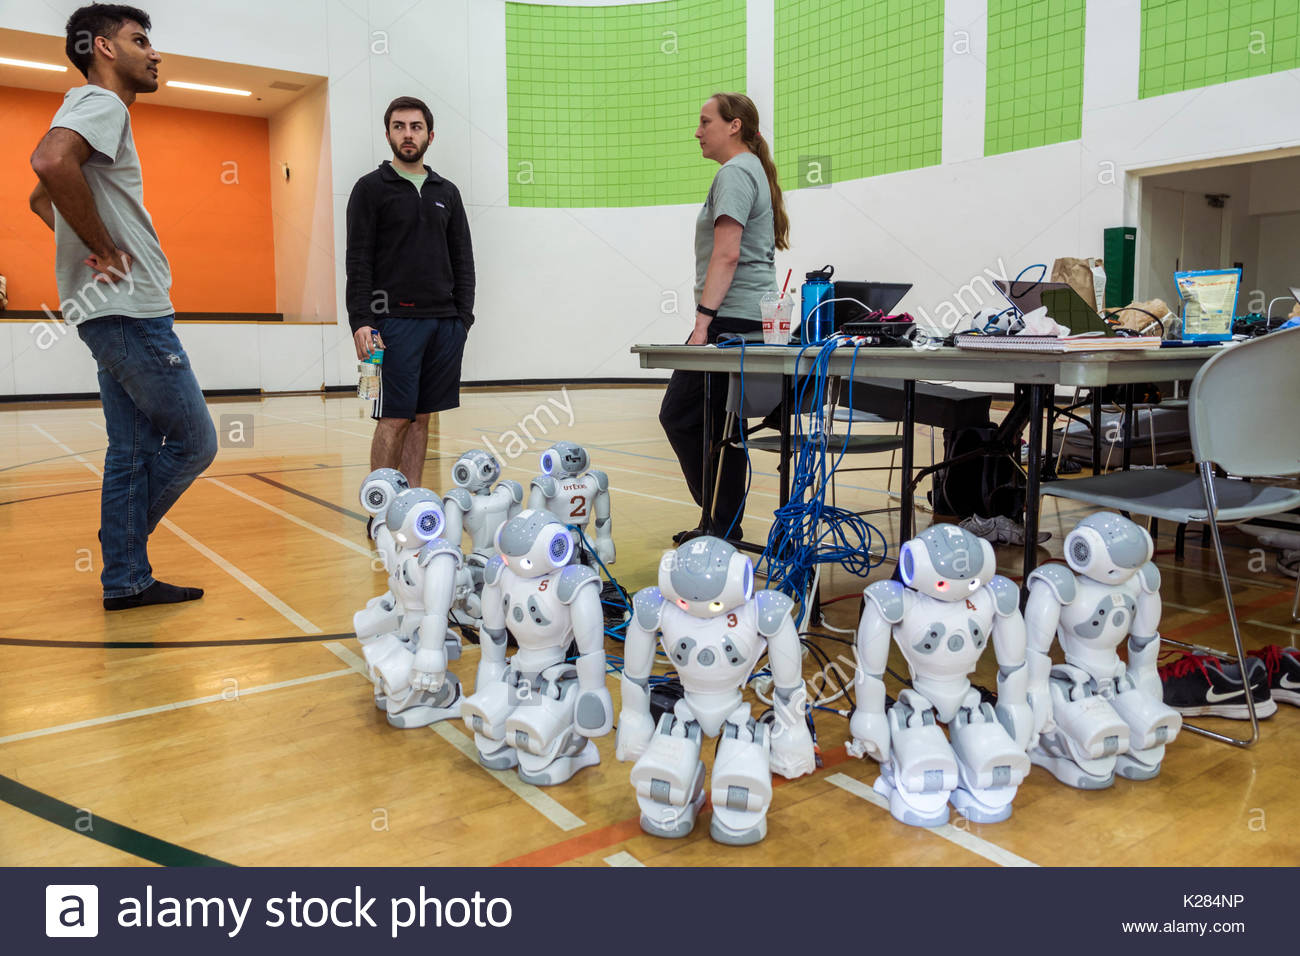nao: (832, 476, 1035, 841), (604, 521, 824, 833), (1022, 475, 1194, 802), (474, 490, 619, 802), (356, 483, 485, 732), (415, 426, 518, 659), (530, 433, 634, 653), (327, 457, 426, 674)
